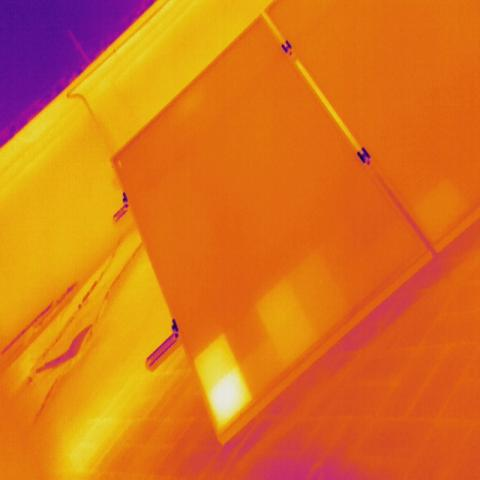fault: (198, 339, 251, 428)
